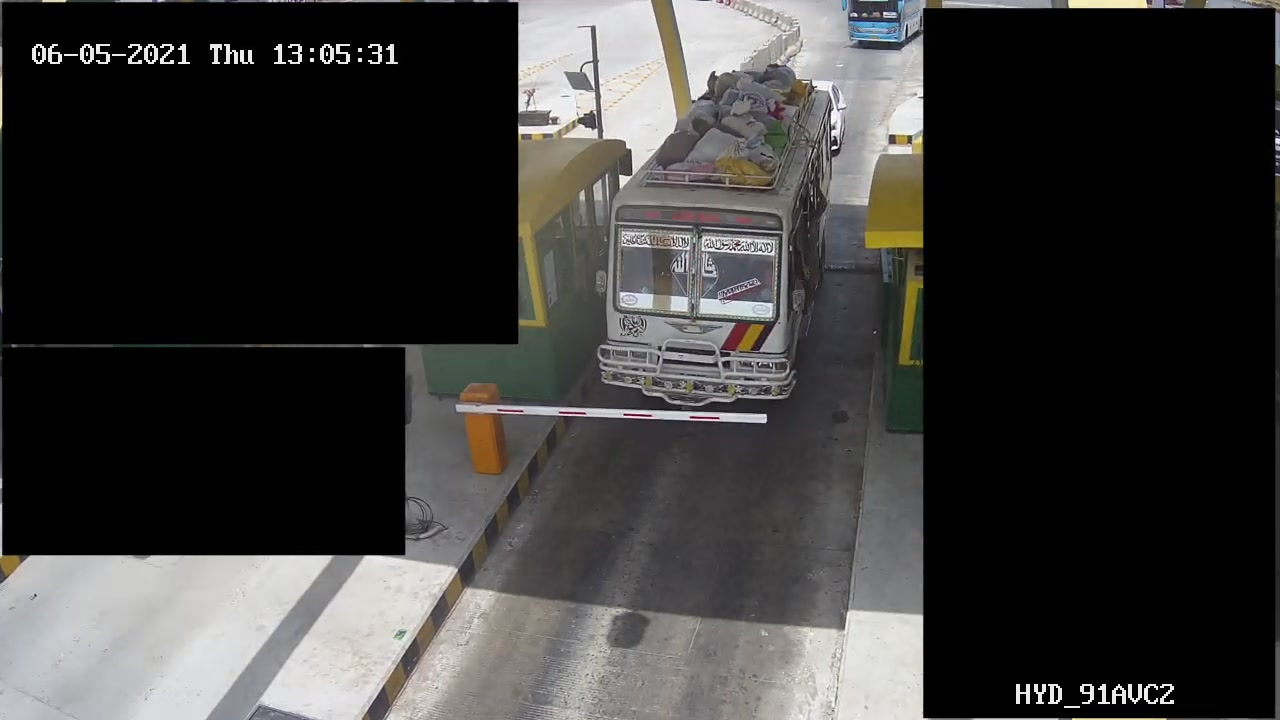F4: (599, 66, 832, 413)
